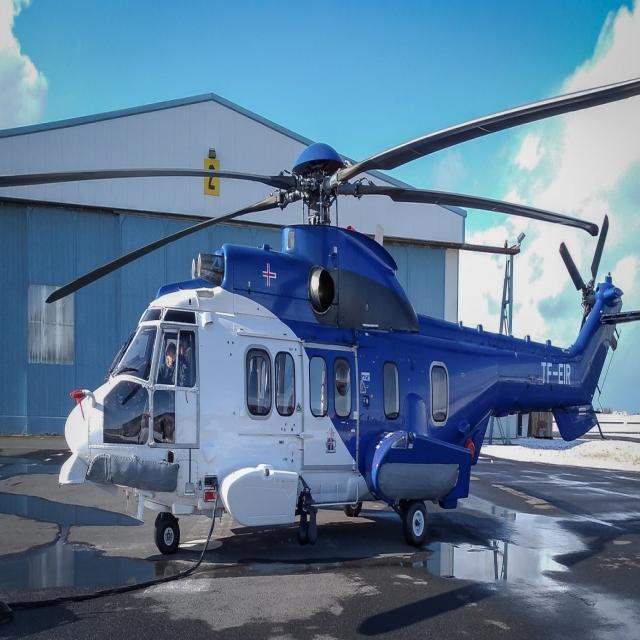helicopter: (32, 83, 640, 602)
